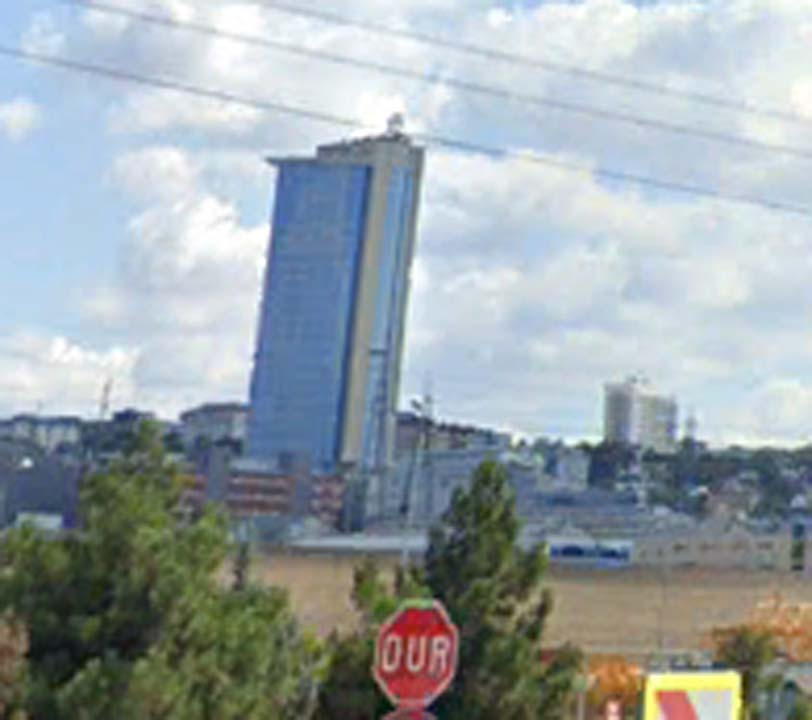arac_dur_isareti: (335, 538, 484, 705)
